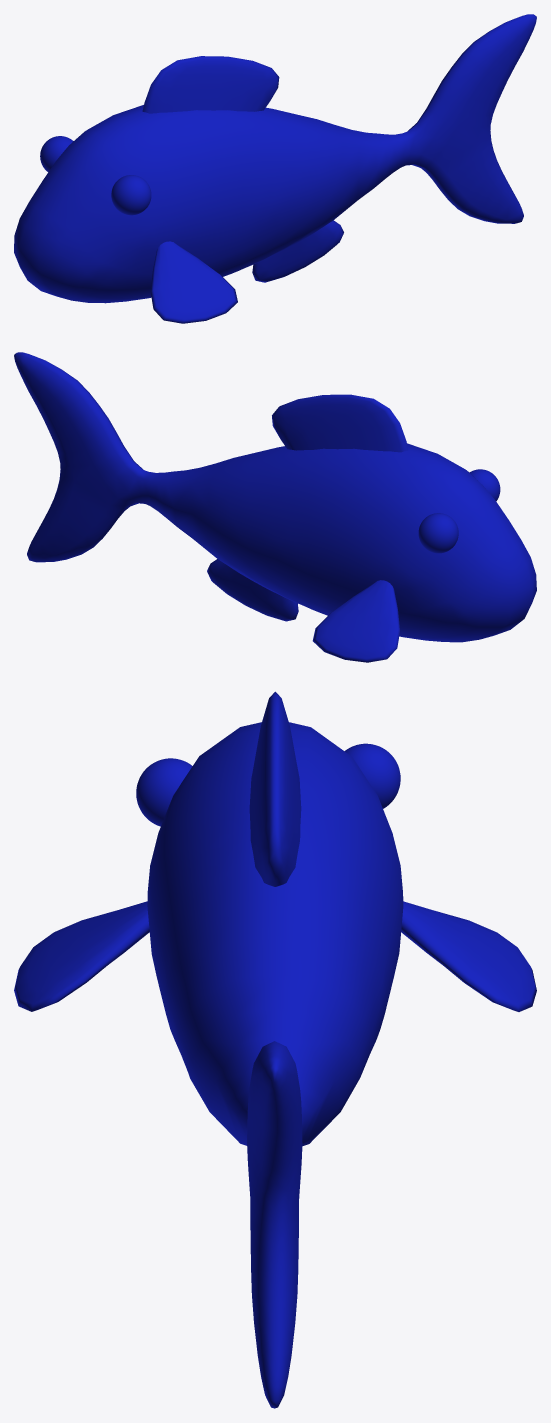
Rendered from poisson.glb.
The picture shows the model from 3 angles, top to bottom: view 1: azimuth 30°, elevation 25°; view 2: azimuth 150°, elevation 25°; view 3: azimuth 270°, elevation 25°; orthographic projection. The views are drawn at different scales.
Visible parts, largest first — view 1: mesh_id27; view 2: mesh_id27; view 3: mesh_id27.
Part boxes in pixels (box(x1,y1,x2,y2)): mesh_id27: box(14, 14, 536, 323); mesh_id27: box(14, 352, 536, 662); mesh_id27: box(14, 691, 536, 1408).
Size of the model in its own units: 0.4389 by 0.1993 by 0.2222.
